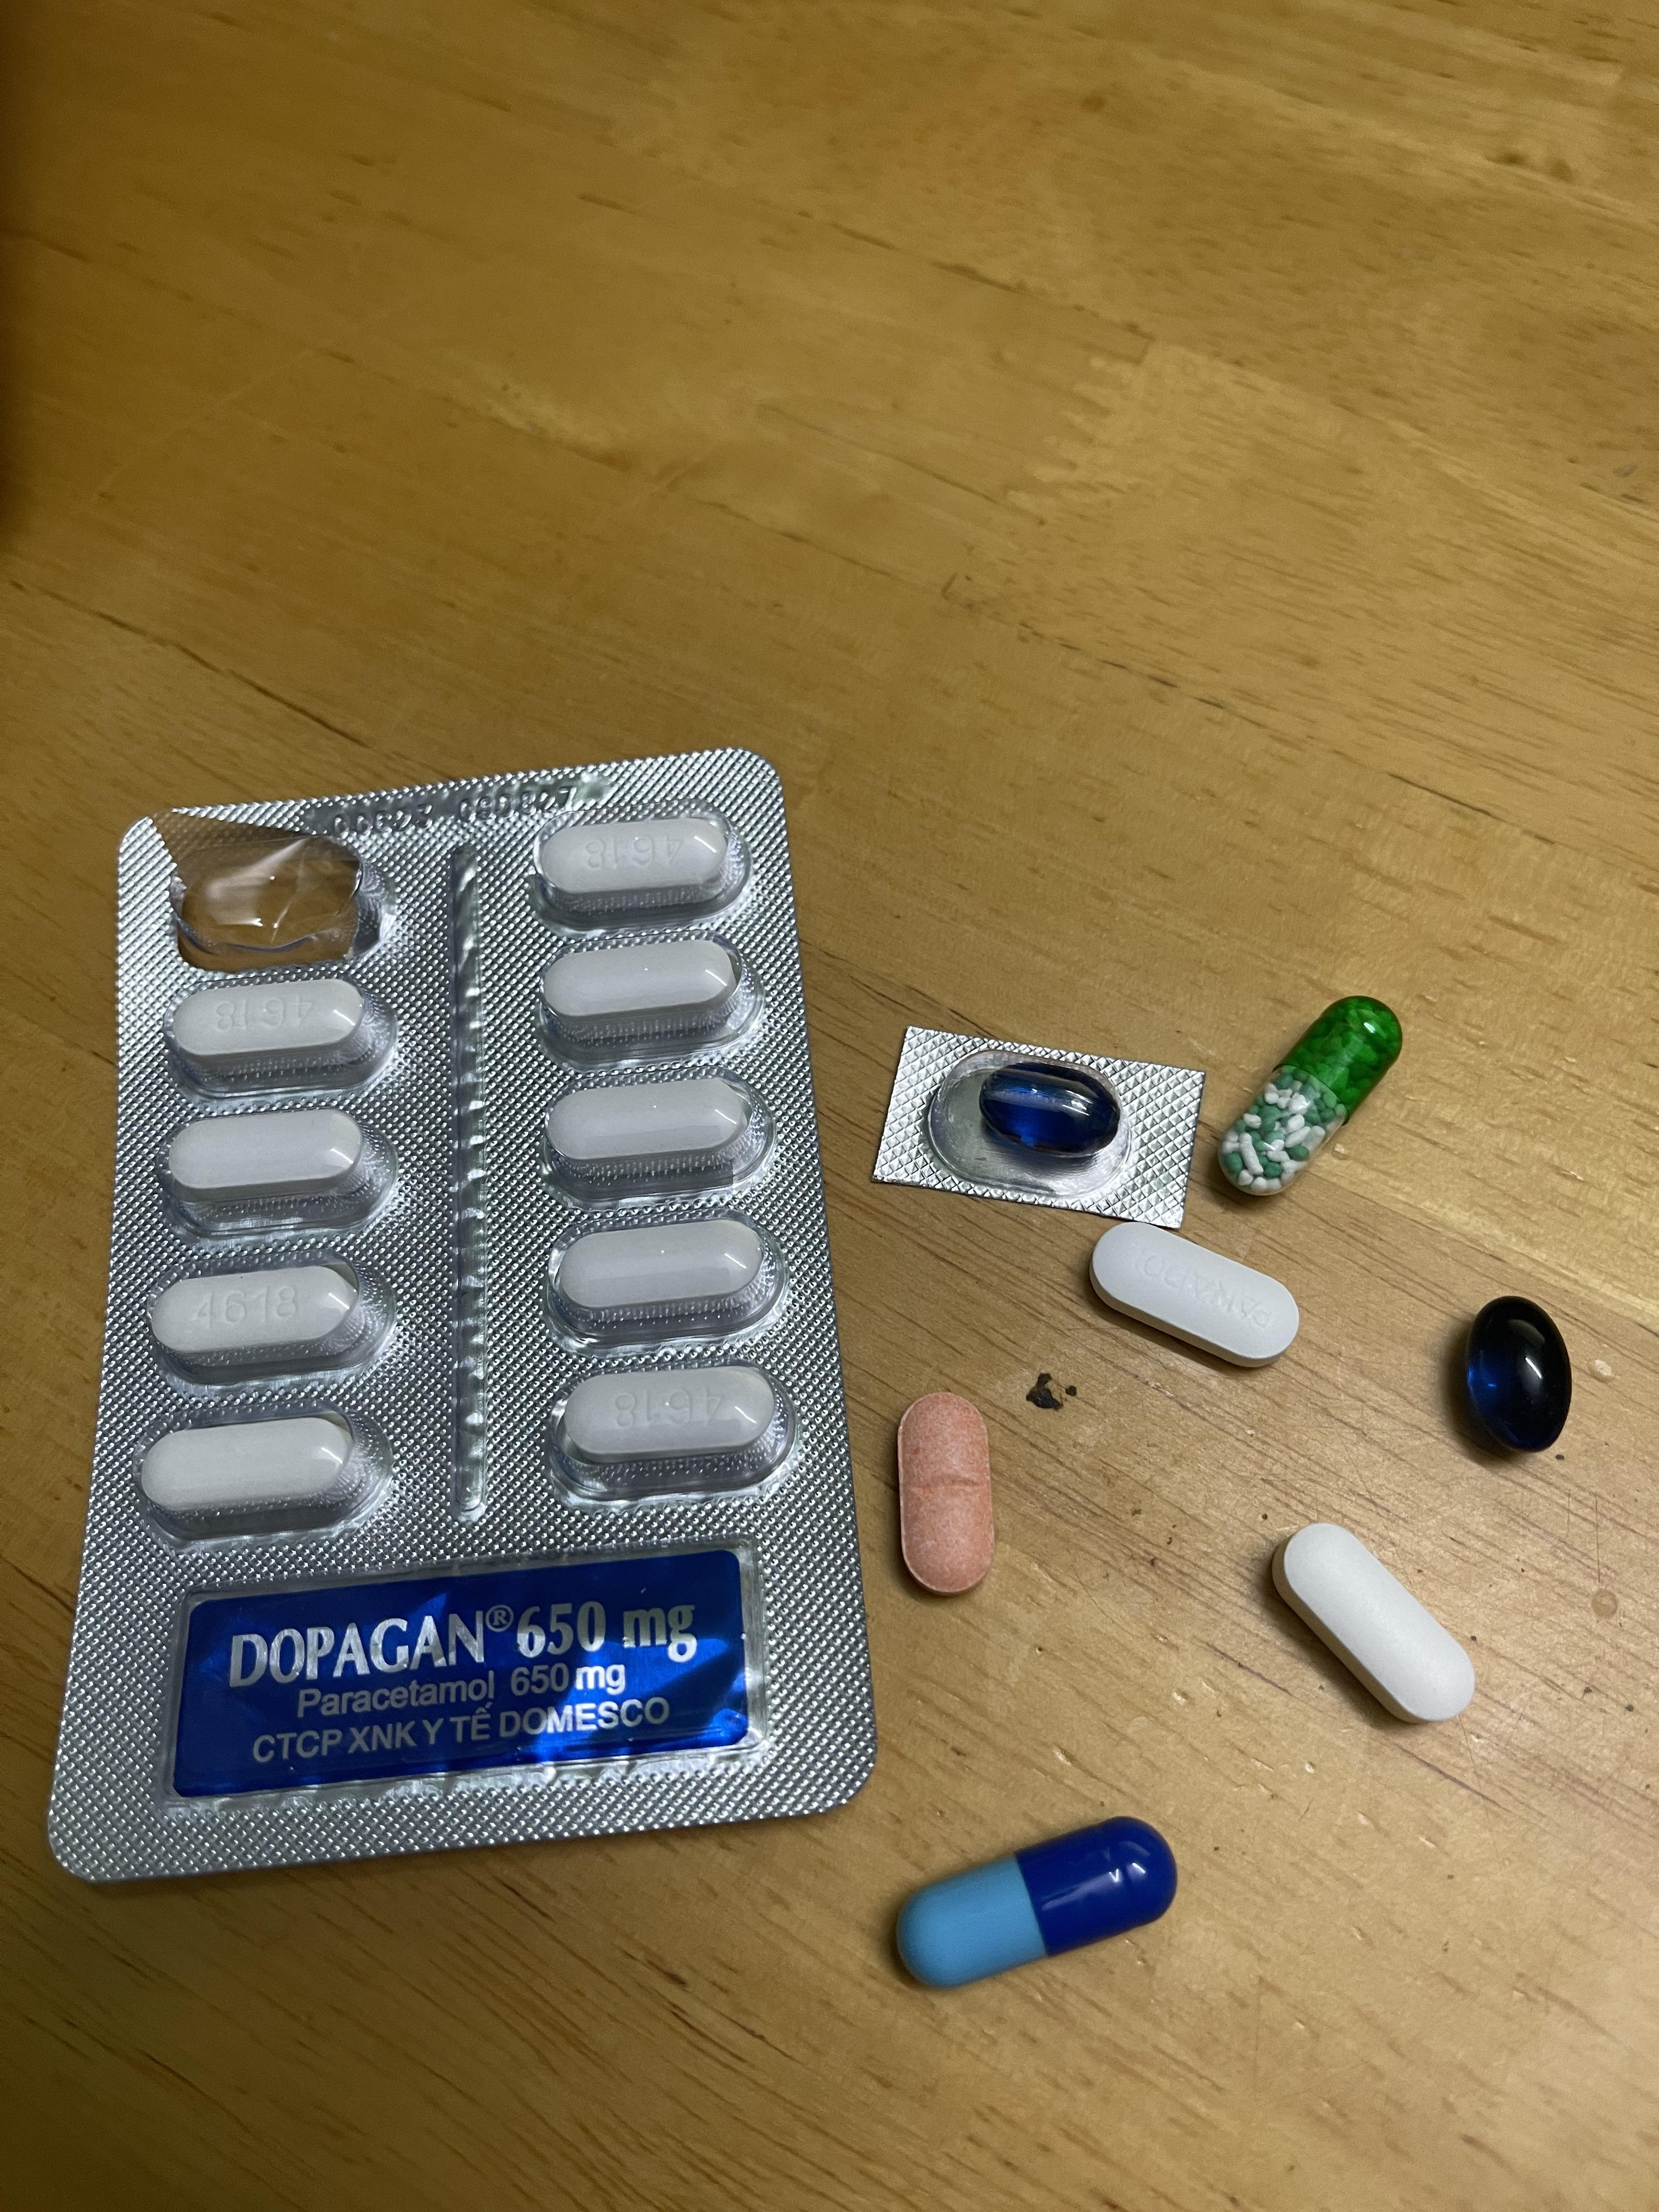Lincomyxin_500mg: (1466, 1294, 1575, 1453), (974, 1064, 1119, 1160)
Loratadine_10mg: (897, 1393, 995, 1592)
Paracetamol_350mg: (1094, 1226, 1295, 1362)
Paracetamol_500mg: (1279, 1522, 1471, 1721), (551, 1362, 781, 1496), (150, 1263, 383, 1371), (542, 1073, 758, 1181), (157, 1111, 382, 1214), (551, 1219, 767, 1325), (537, 934, 744, 1042), (141, 1418, 359, 1521), (164, 975, 382, 1075), (537, 813, 735, 906)
Paracetamol_650mg: (1222, 998, 1398, 1190)
pill: (901, 1822, 1166, 1987)
